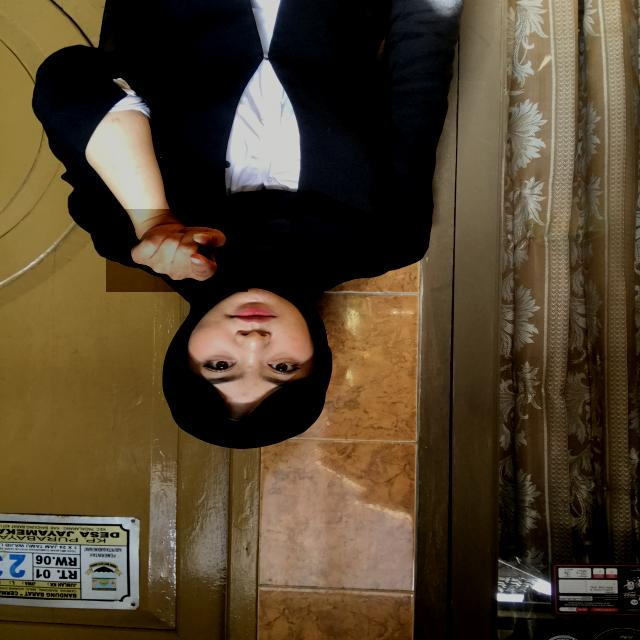kamu: (106, 209, 248, 292)
